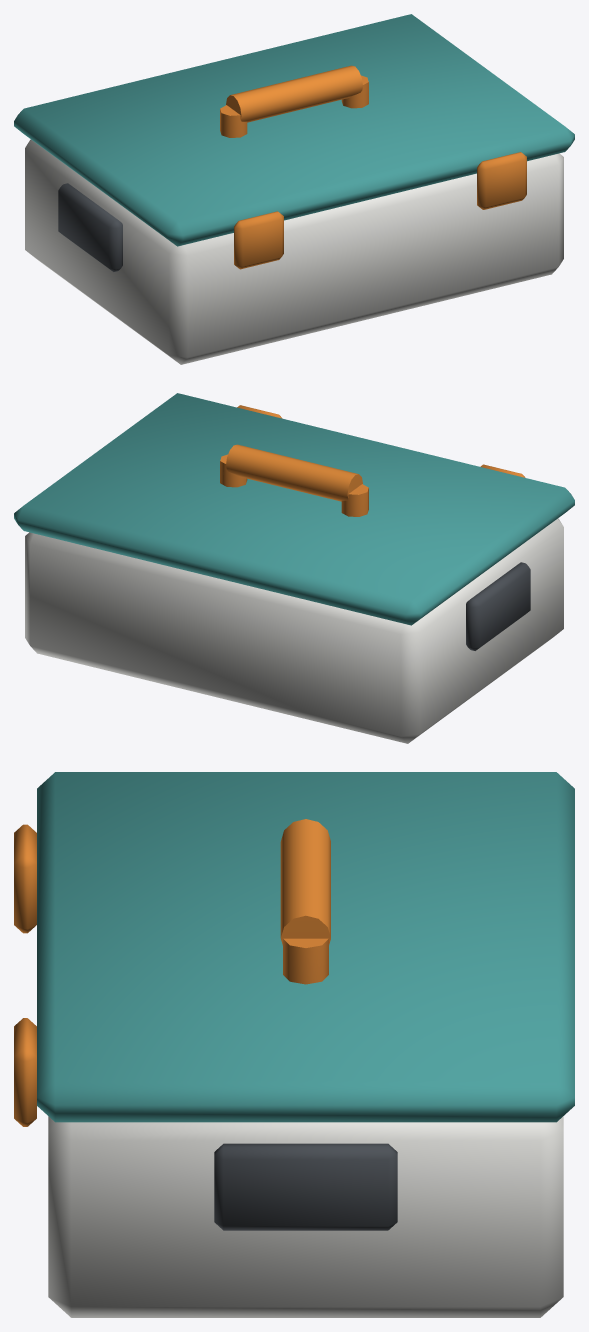
Rendered from SM_FoodBox_Bus_01.glb.
3 views of the same model, one above another, from view 1: azimuth 30°, elevation 25°; view 2: azimuth 150°, elevation 25°; view 3: azimuth 270°, elevation 25° (orthographic). The views are drawn at different scales.
Visible parts, largest first — view 1: SM_FoodBox_Bus_01; view 2: SM_FoodBox_Bus_01; view 3: SM_FoodBox_Bus_01.
Boxes of the visible parts, <box> form: SM_FoodBox_Bus_01: <box>14,14,574,364</box>; SM_FoodBox_Bus_01: <box>14,393,574,743</box>; SM_FoodBox_Bus_01: <box>14,772,574,1317</box>.
Size of the model in its own units: 0.694 by 0.292 by 0.49.
Materials: 1 (1 with a texture image).
